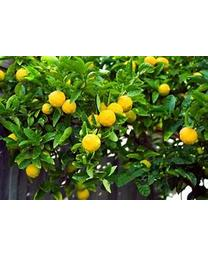lemon: (82, 134, 100, 152), (49, 91, 66, 108), (180, 128, 198, 144), (99, 110, 116, 125), (118, 96, 133, 112), (108, 103, 123, 118), (63, 100, 76, 114), (26, 164, 40, 177)
